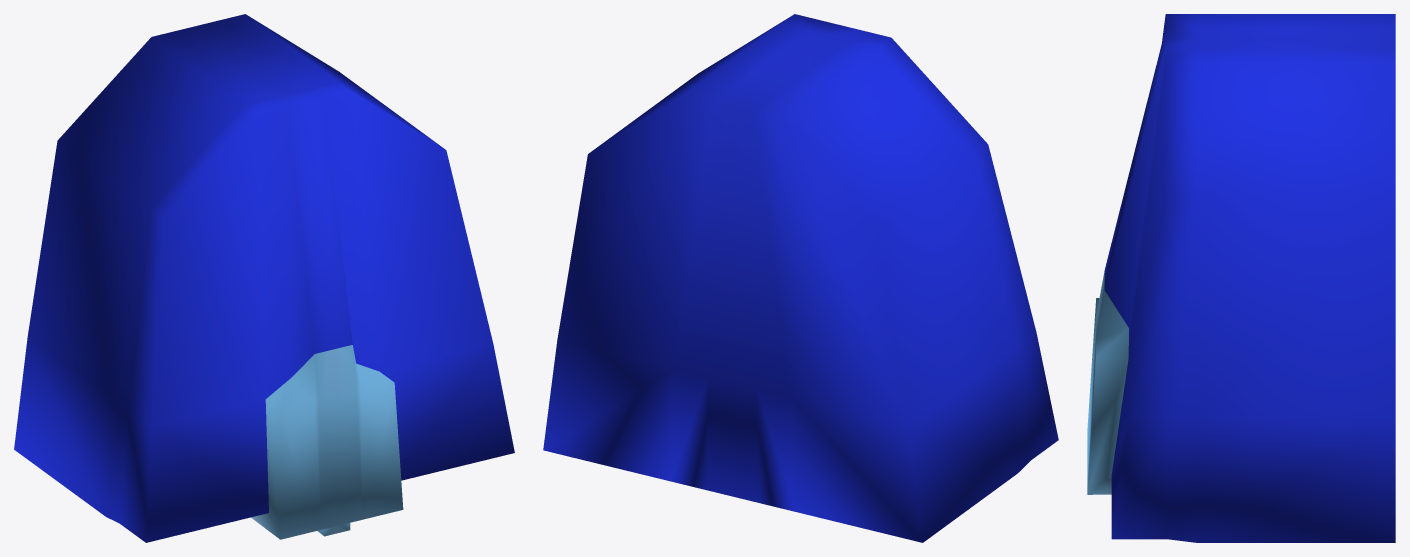
File: SaboneteSuporte.fbx
3 views of the same model, side by side, from view 1: azimuth 30°, elevation 25°; view 2: azimuth 150°, elevation 25°; view 3: azimuth 270°, elevation 25° (orthographic). The views are drawn at different scales.
Parts seen in each view (by area): view 1: SaboneteSuporte; view 2: SaboneteSuporte; view 3: SaboneteSuporte.
Part boxes in pixels (box(x1,y1,x2,y2)): SaboneteSuporte: box(14, 14, 514, 542); SaboneteSuporte: box(543, 14, 1058, 542); SaboneteSuporte: box(1087, 14, 1395, 542).
Size of the model in its own units: 37.33 by 39.28 by 25.13.
1 material, 1 textured.
